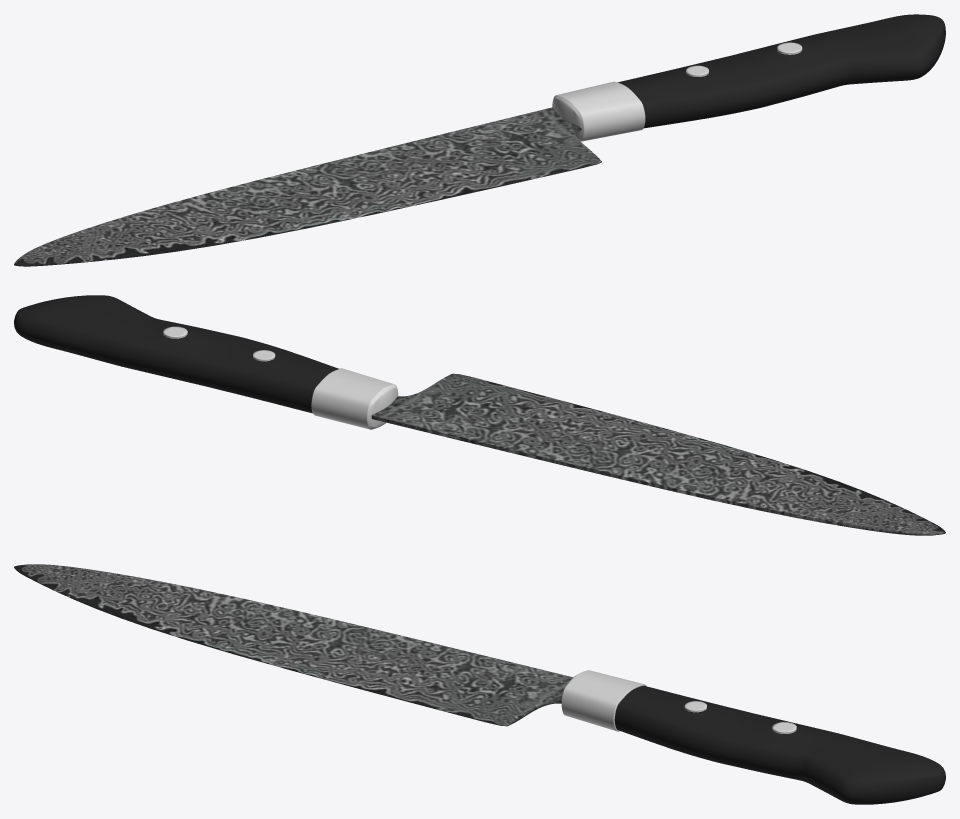
The model's file is knife_damascus.glb.
3 renders of one model, top to bottom at view 1: azimuth 30°, elevation 25°; view 2: azimuth 150°, elevation 25°; view 3: azimuth 330°, elevation 25°, orthographic. The views are drawn at different scales.
Parts seen in each view (by area): view 1: Plane.004; view 2: Plane.004; view 3: Plane.004.
Boxes of the visible parts, x1=… form: Plane.004: x1=14, y1=14, x2=945, y2=266; Plane.004: x1=14, y1=295, x2=945, y2=535; Plane.004: x1=14, y1=564, x2=945, y2=804.
Size of the model in its own units: 3.92 by 0.1677 by 0.5083.
Materials: 1 (1 with a texture image).
